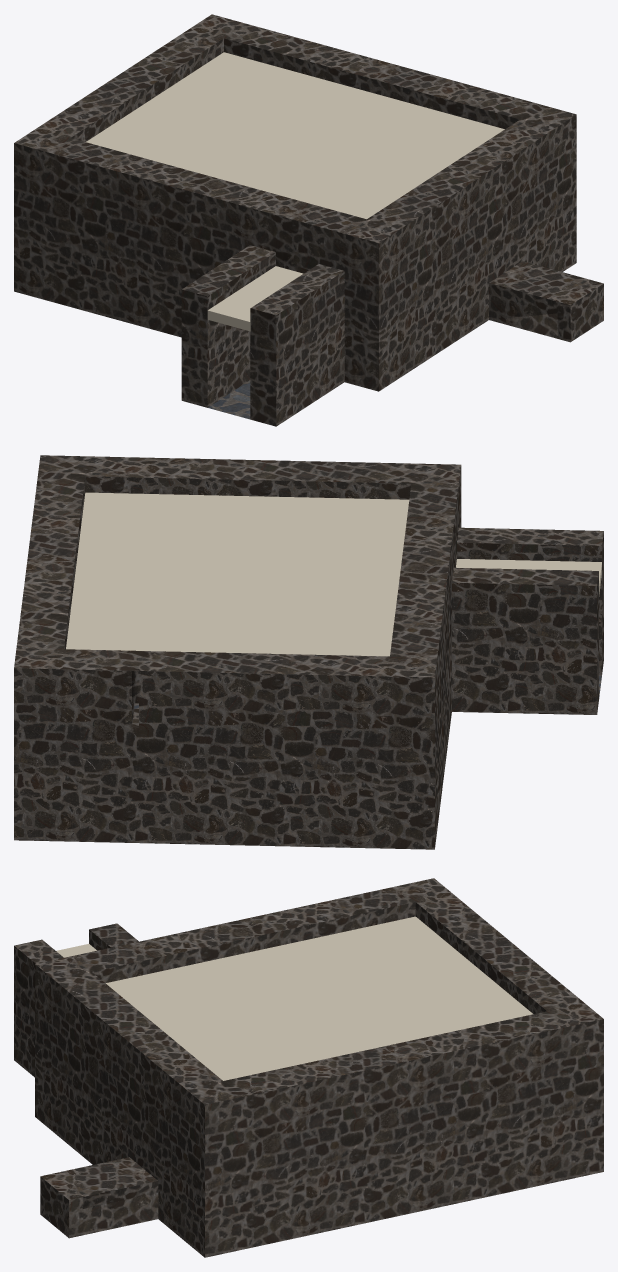
The model's file is tyrma-e101-v2.glb.
3 renders of one model, top to bottom at view 1: azimuth 30°, elevation 25°; view 2: azimuth 150°, elevation 25°; view 3: azimuth 270°, elevation 25°, orthographic. The views are drawn at different scales.
Parts seen in each view (by area): view 1: tyrma_e101_architecture; view 2: tyrma_e101_architecture; view 3: tyrma_e101_architecture.
Boxes of the visible parts, box(x1,y1,x2,y2) form: tyrma_e101_architecture: box(14, 14, 603, 426); tyrma_e101_architecture: box(14, 455, 603, 849); tyrma_e101_architecture: box(14, 878, 603, 1257).
Size of the model in its own units: 10.18 by 3.2 by 11.2.
Materials: 5 (3 with a texture image).
